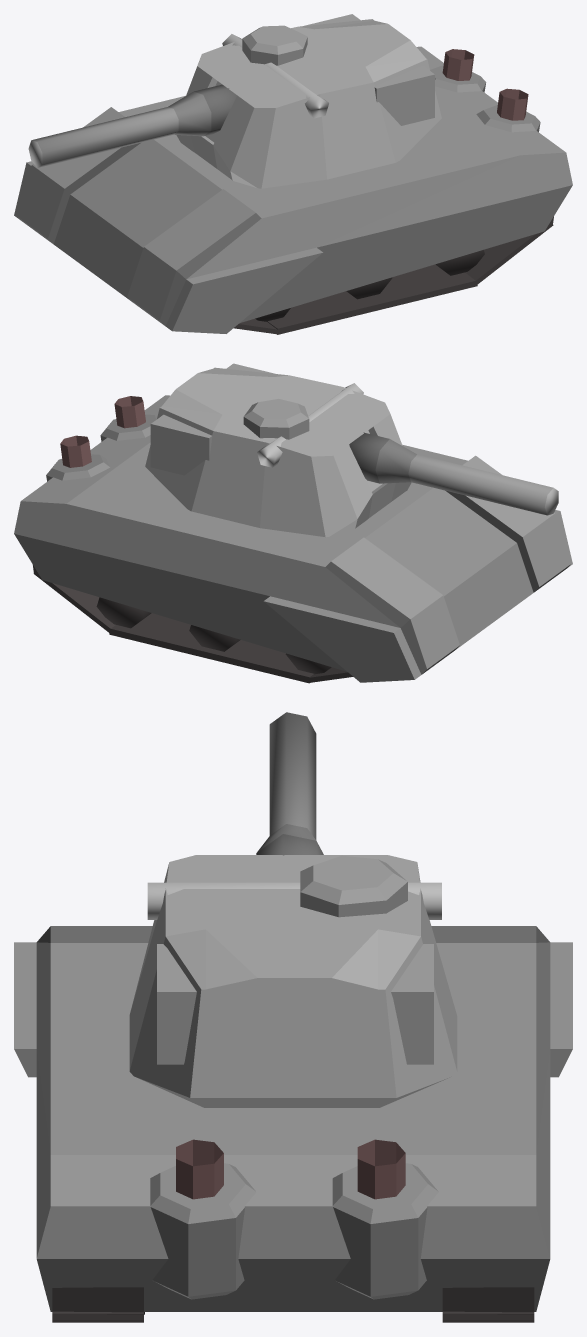
Rendered from sturmratte_new.glb.
The picture shows the model from 3 angles, top to bottom: view 1: azimuth 30°, elevation 25°; view 2: azimuth 150°, elevation 25°; view 3: azimuth 270°, elevation 25°; orthographic projection. The views are drawn at different scales.
Parts seen in each view (by area): view 1: Cube, Cube.001, Cylinder, Cube.007, Cube.002, Cylinder.003, Cube.010, Cylinder.012, Cylinder.005, Cylinder.008, Cylinder.006, Cylinder.004 (+3 smaller); view 2: Cube, Cube.001, Cylinder, Cube.012, Cube.002, Cylinder.003, Cube.015, Cylinder.012, Cylinder.004, Cylinder.002, Cylinder.006, Cylinder.008 (+3 smaller); view 3: Cube, Cube.001, Cylinder.004, Cylinder.005, Cube.002, Cylinder, Cylinder.003, Cylinder.006, Cylinder.008, Cylinder.012, Cube.016, Cube.011 (+2 smaller).
Boxes of the visible parts, <box> form: Cube: <box>14,46,572,333</box>; Cube.001: <box>176,19,441,188</box>; Cylinder: <box>28,84,236,167</box>; Cube.007: <box>267,264,477,334</box>; Cube.002: <box>304,14,434,125</box>; Cylinder.003: <box>242,25,307,65</box>; Cube.010: <box>465,222,553,286</box>; Cylinder.012: <box>222,34,328,118</box>; Cylinder.005: <box>476,105,540,132</box>; Cylinder.008: <box>497,88,528,120</box>; Cylinder.006: <box>442,49,474,80</box>; Cylinder.004: <box>430,65,486,92</box>; Cube: <box>14,395,572,682</box>; Cube.001: <box>145,367,411,537</box>; Cylinder: <box>349,432,558,515</box>; Cube.012: <box>109,613,313,683</box>; Cube.002: <box>150,363,275,475</box>; Cylinder.003: <box>243,399,309,439</box>; Cube.015: <box>33,572,115,632</box>; Cylinder.012: <box>257,383,363,467</box>; Cylinder.004: <box>46,454,110,481</box>; Cylinder.002: <box>96,597,151,628</box>; Cylinder.006: <box>60,435,91,467</box>; Cylinder.008: <box>114,396,145,428</box>; Cube: <box>14,926,572,1311</box>; Cube.001: <box>129,855,457,1107</box>; Cylinder.004: <box>332,1163,438,1299</box>; Cylinder.005: <box>150,1163,256,1299</box>; Cube.002: <box>157,944,433,1064</box>; Cylinder: <box>256,712,323,855</box>; Cylinder.003: <box>300,855,407,917</box>; Cylinder.006: <box>357,1139,405,1199</box>; Cylinder.008: <box>176,1139,223,1199</box>; Cylinder.012: <box>147,882,441,919</box>; Cube.016: <box>442,1287,534,1314</box>; Cube.011: <box>52,1287,143,1314</box>.
Bounding box in the file's own units: 16.23 × 6.97 × 9.89.
2 materials, 1 textured.
